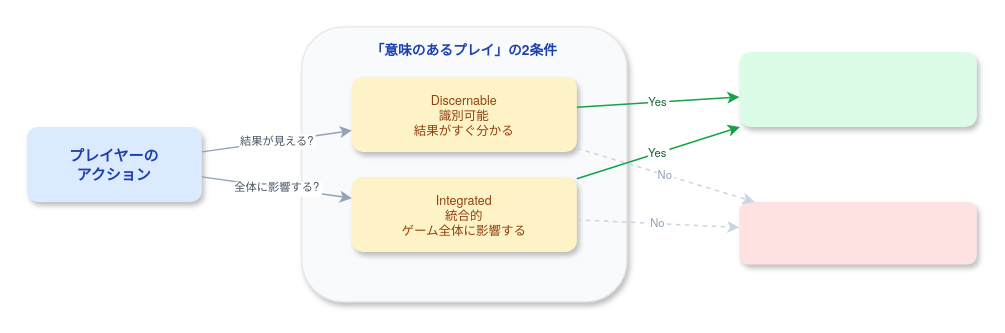
Some shapes in this 1005 by 333 pixel diagram are drawn without their labels. The shapes that lost their labels are listed below. From the top down, each one's centre as x and y in pixels, then its label:
the point at 859,90: 意味のあるプレイ (Meaningful Play)
the point at 859,234: 無意味なプレイ (退屈 or 混乱)
